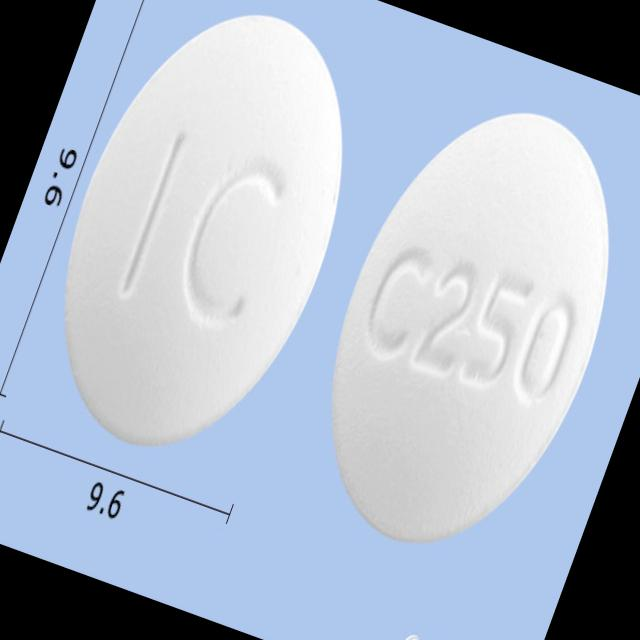Ciroctan - 500mg: (6, 0, 404, 490), (273, 69, 640, 589)
